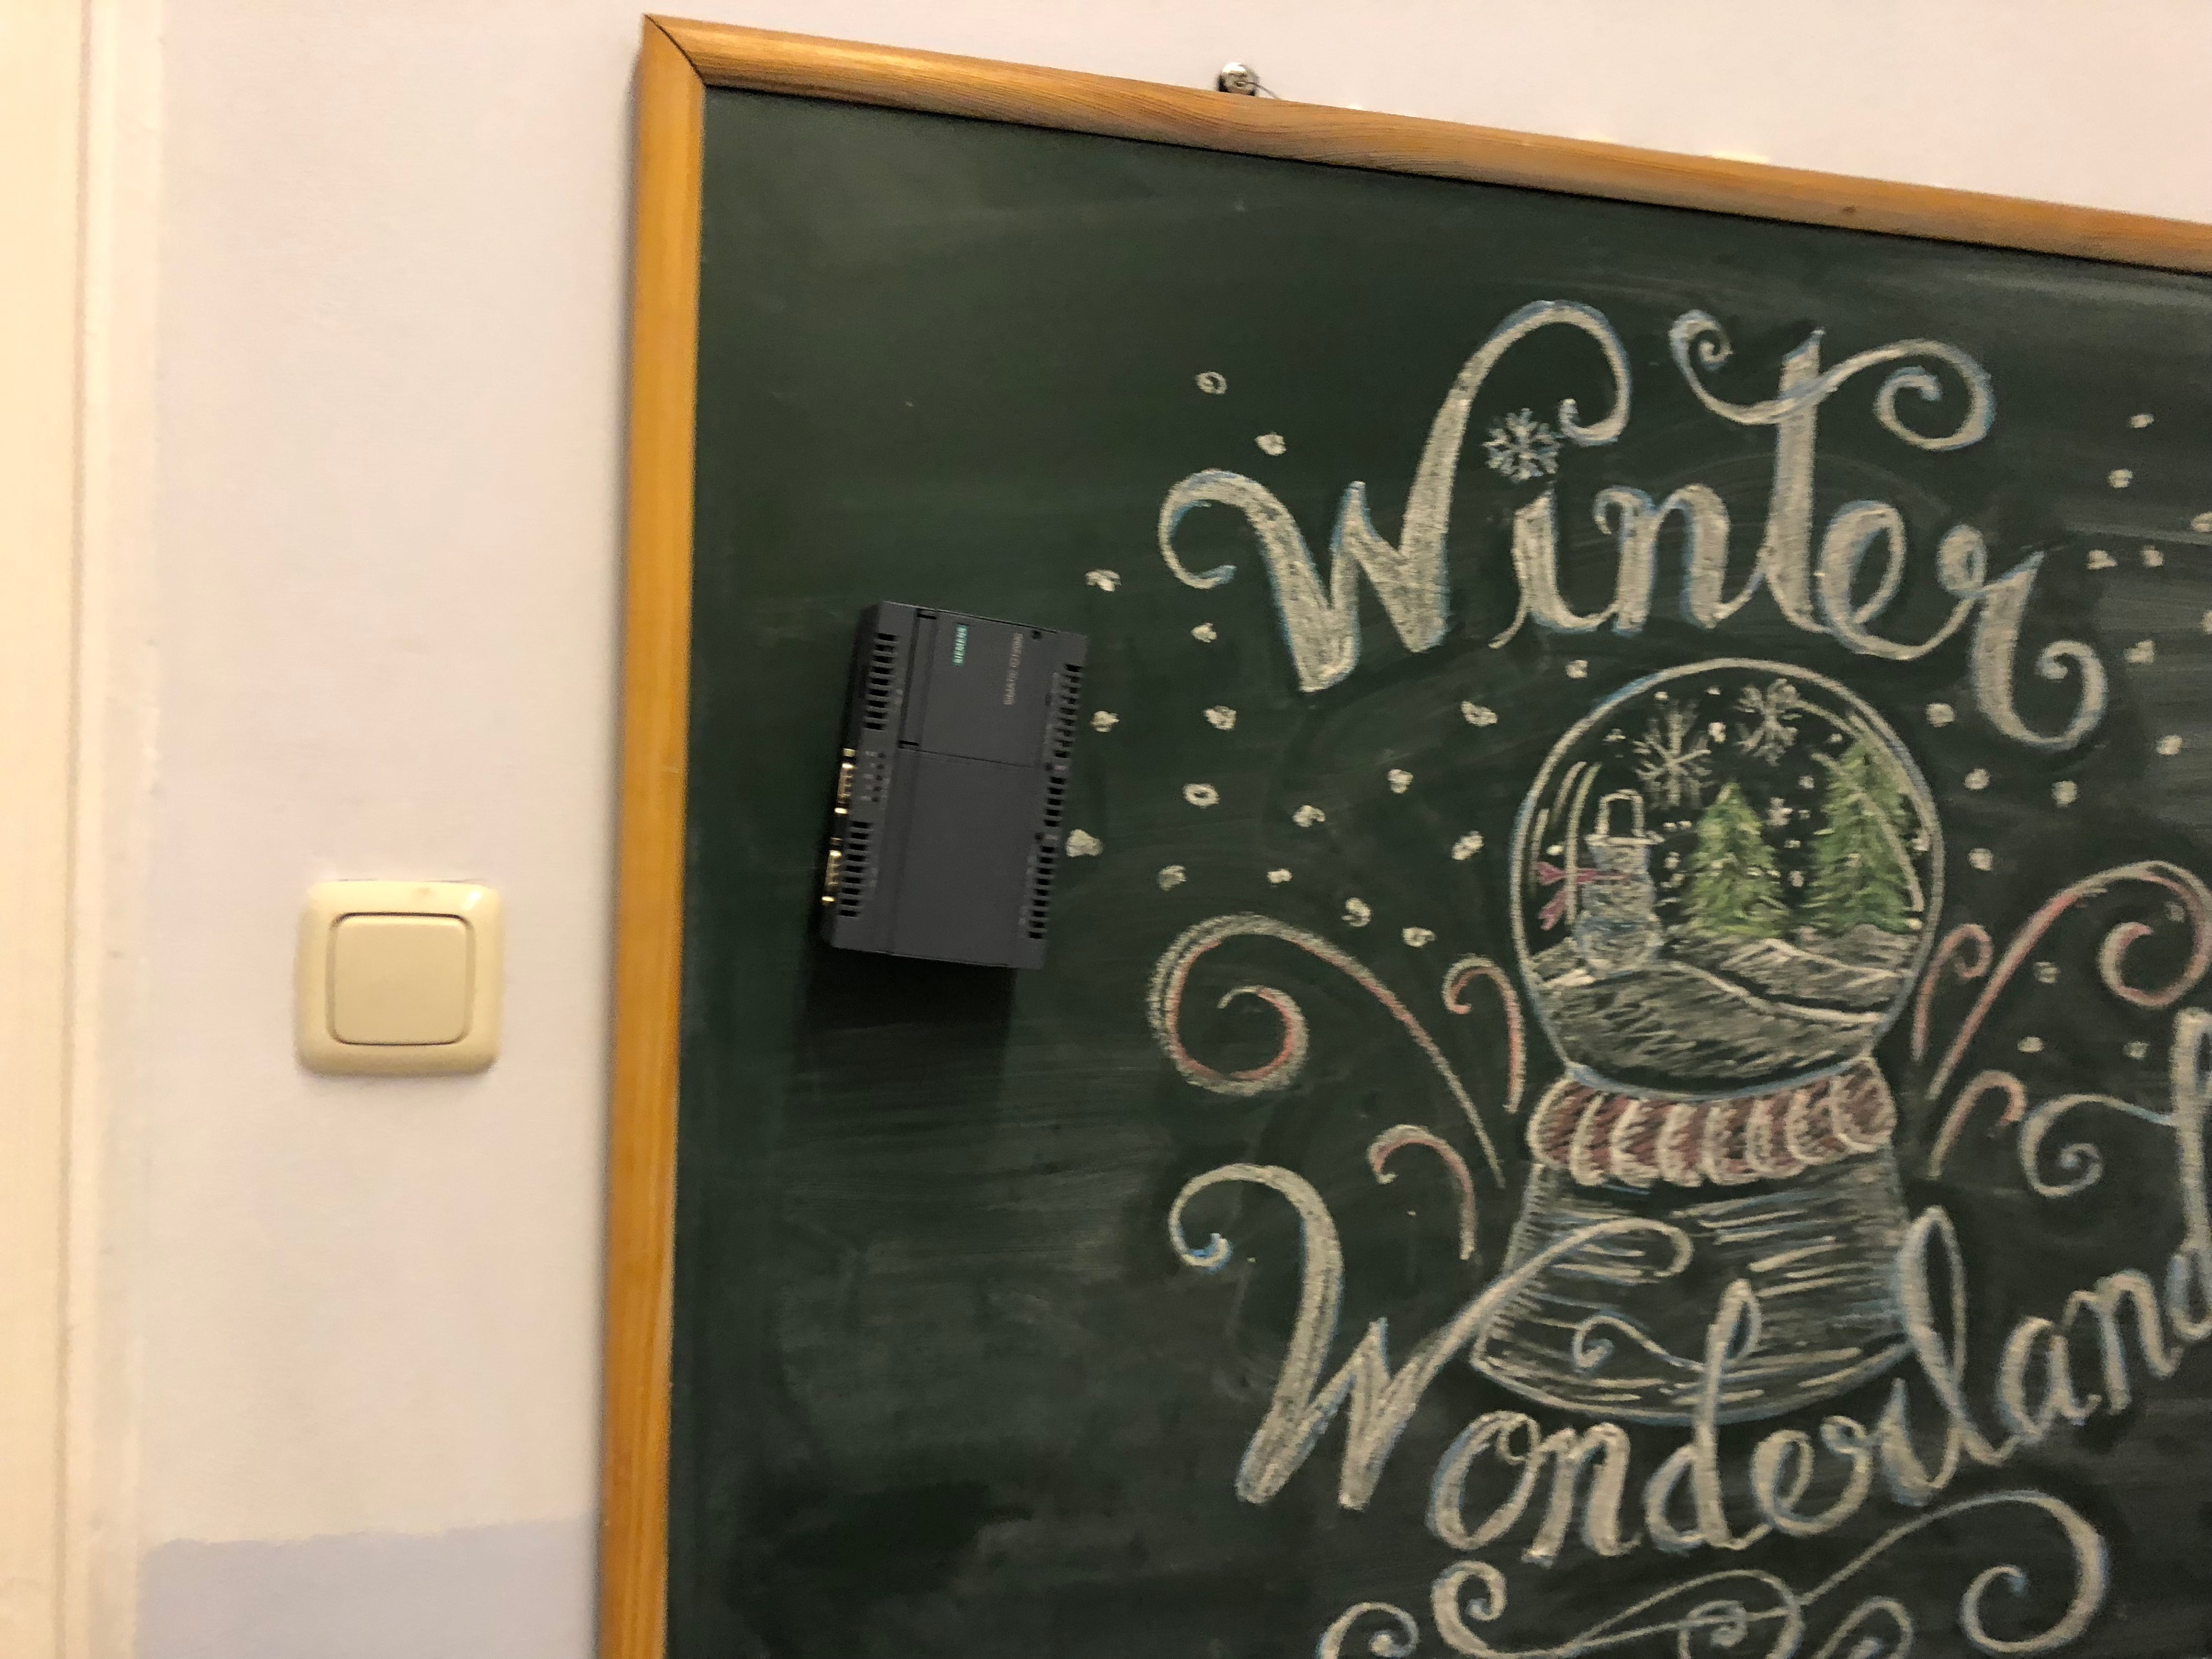device: (820, 599, 1089, 969)
